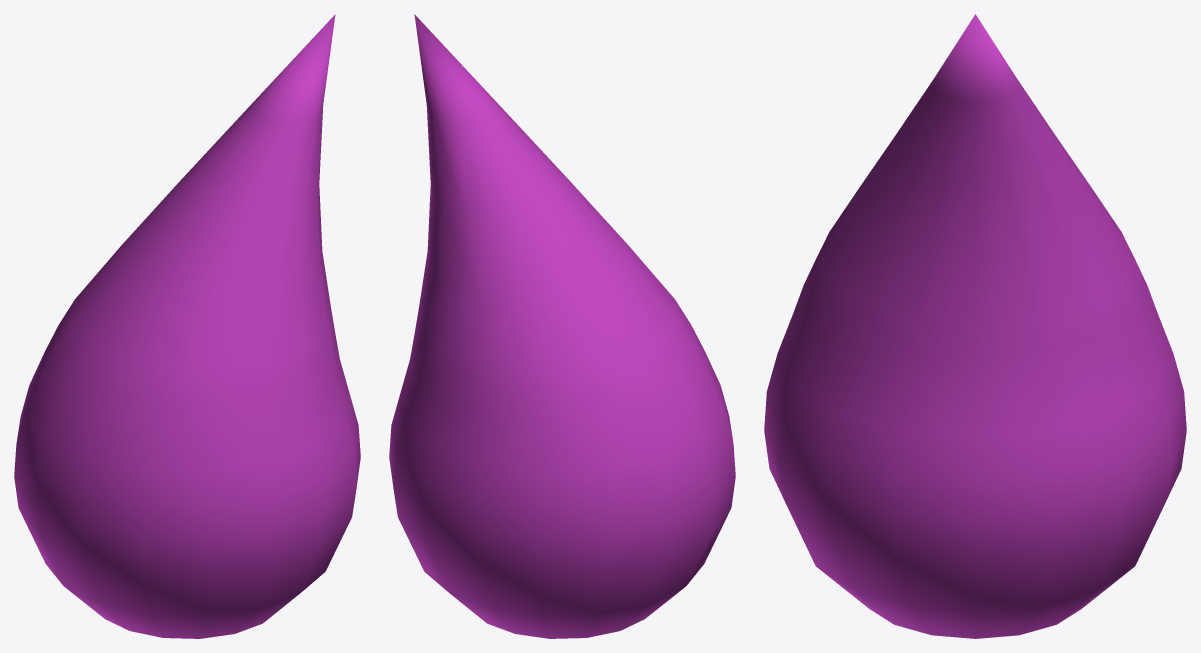
The model's file is JugoSlime.fbx.
3 renders of one model, left to right at view 1: azimuth 30°, elevation 25°; view 2: azimuth 150°, elevation 25°; view 3: azimuth 270°, elevation 25°, orthographic. The views are drawn at different scales.
Parts seen in each view (by area): view 1: Jugo_V2; view 2: Jugo_V2; view 3: Jugo_V2.
Part boxes in pixels (<box>): Jugo_V2: <box>14,14,360,638</box>; Jugo_V2: <box>389,14,735,638</box>; Jugo_V2: <box>764,14,1186,638</box>.
Size of the model in its own units: 13.22 by 23.99 by 13.22.
Materials: 1 (1 with a texture image).
